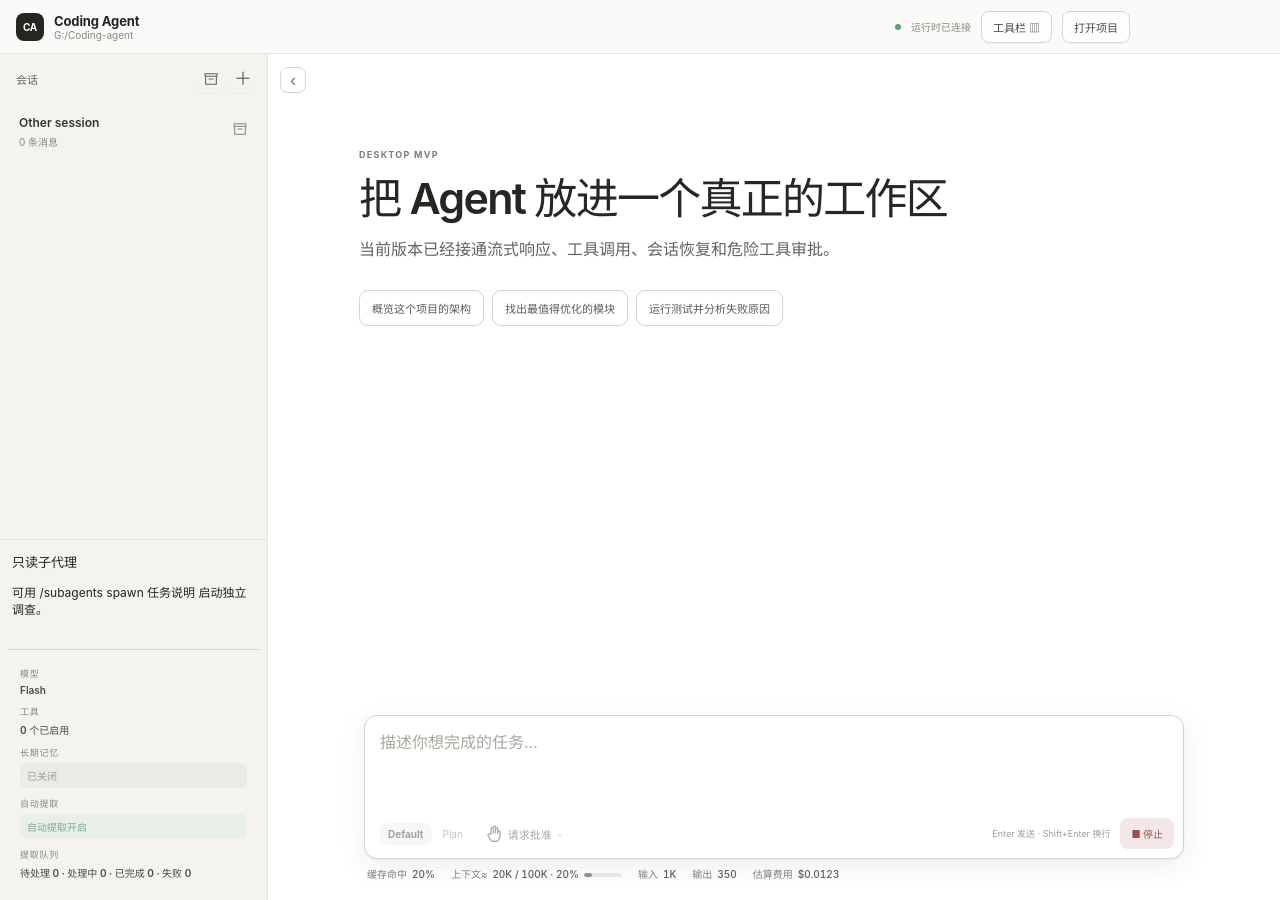
Test case: desktop authoritative session usage › rehydrates metrics from the authoritative session snapshot
The width and height of the screenshot is (1280, 900).
Expected: the text box with placeholder "描述你想完成的任务…" is shown, left=365, top=716, right=1183, bottom=807
Click the button "■ 停止". click: (1147, 834)
box: left=1120, top=818, right=1174, bottom=849
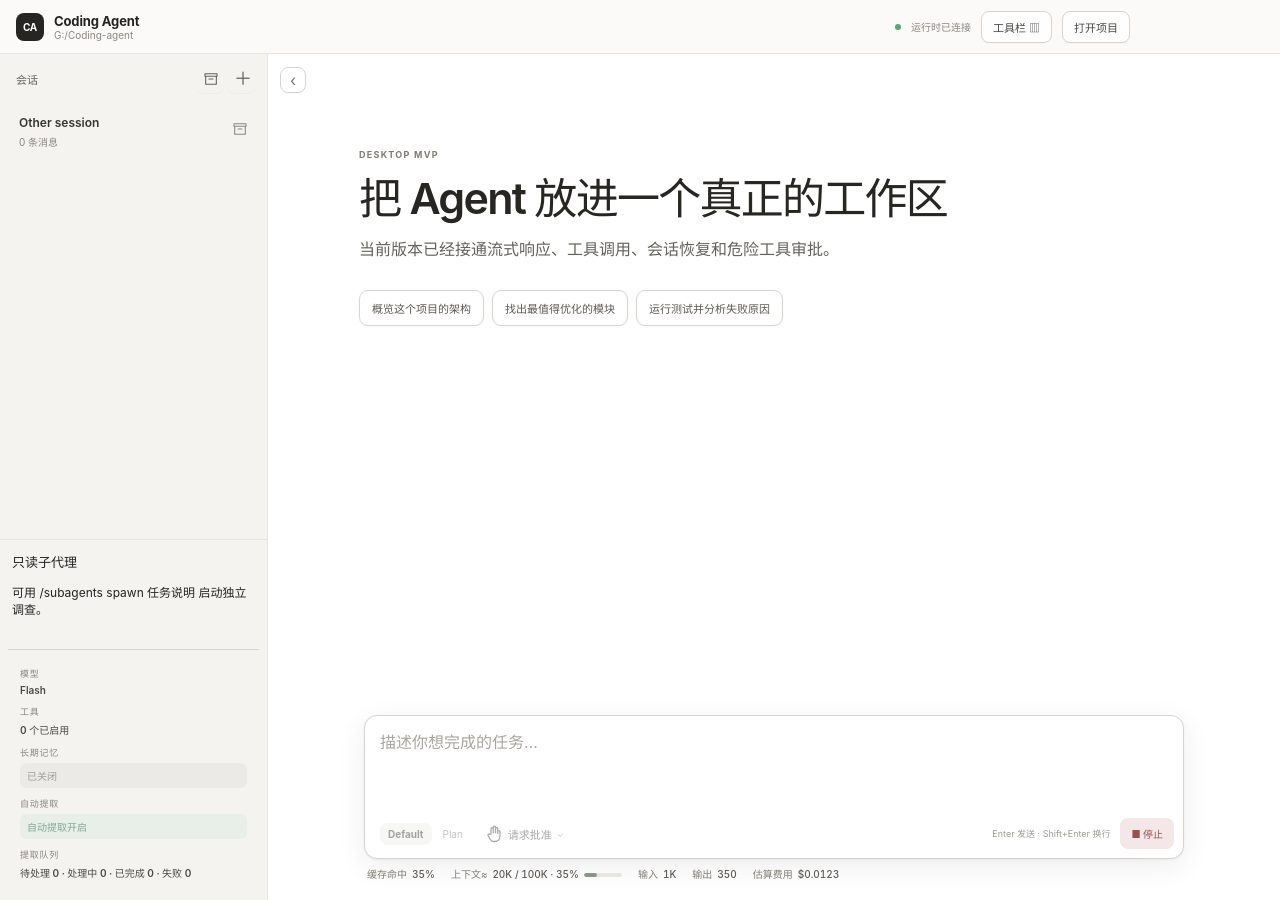
Expected: the text with test id "cache-hit-rate" reads "35%", left=412, top=868, right=435, bottom=880
